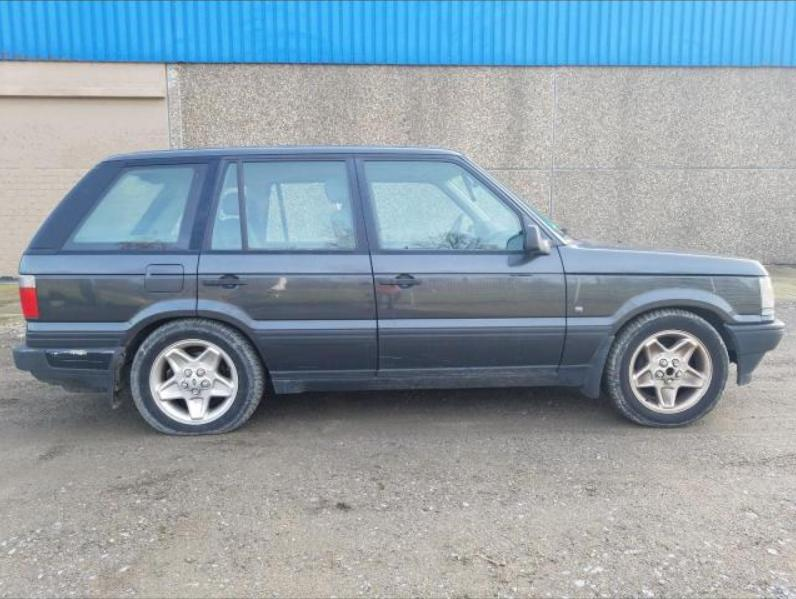Dent: (48, 293, 63, 307)
Scratch: (52, 349, 90, 356), (59, 359, 103, 365)
